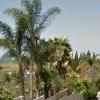Palm tree: (5, 4, 58, 90)
